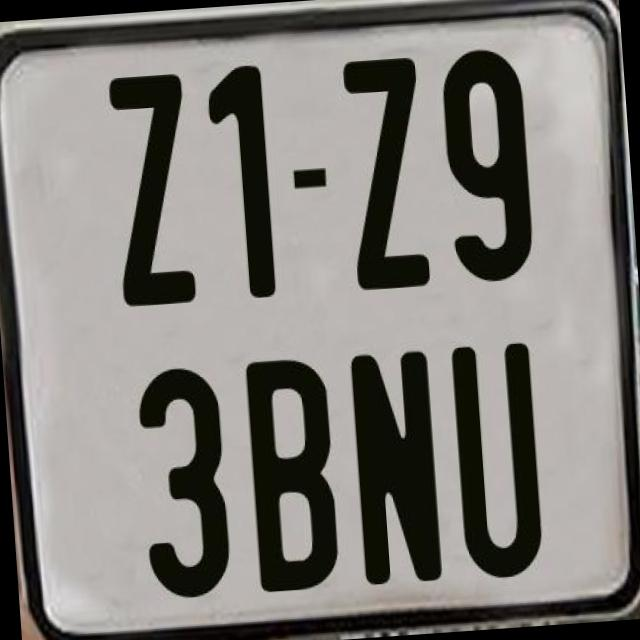1: (203, 62, 276, 304)
3: (136, 366, 232, 609)
9: (434, 45, 536, 286)
B: (242, 355, 342, 594)
N: (349, 346, 443, 588)
U: (451, 342, 546, 582)
Z: (105, 70, 193, 306), (338, 52, 426, 286)
